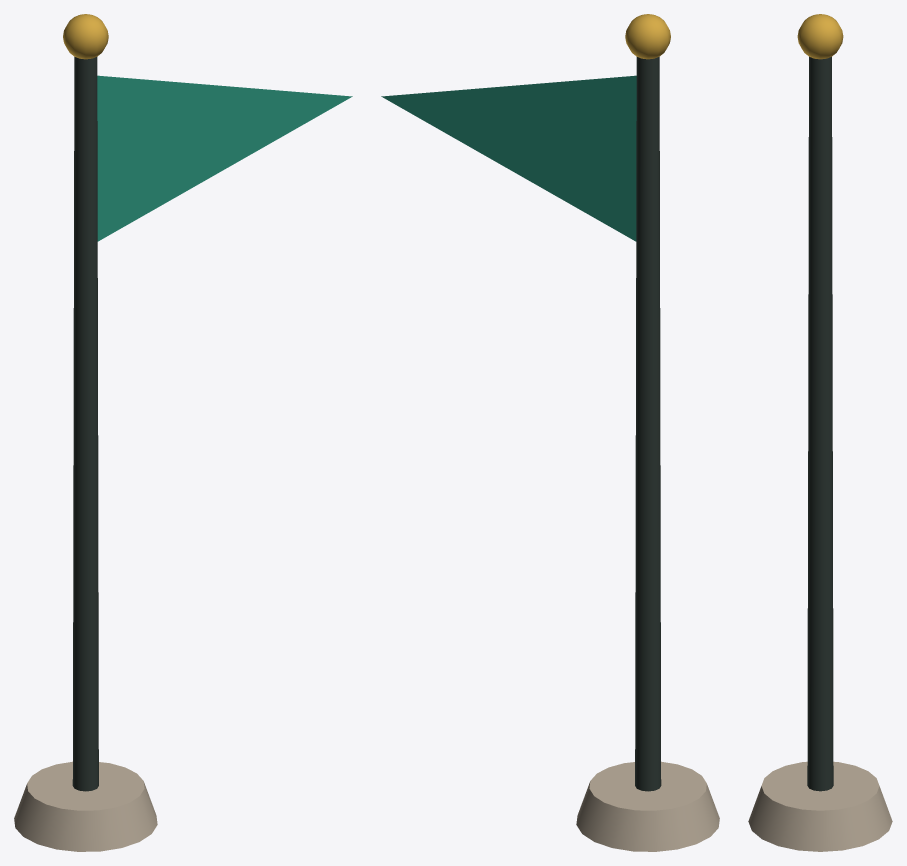
File: prop_plaza_flag_ph.glb
3 views of the same model, side by side, from view 1: azimuth 30°, elevation 25°; view 2: azimuth 150°, elevation 25°; view 3: azimuth 270°, elevation 25° (orthographic).
Visible parts, largest first — view 1: prop_plaza_flag; view 2: prop_plaza_flag; view 3: prop_plaza_flag.
Part boxes in pixels (box(x1,y1,x2,y2)): prop_plaza_flag: box(14, 14, 352, 851); prop_plaza_flag: box(381, 14, 719, 851); prop_plaza_flag: box(748, 14, 892, 851).
Size of the model in its own units: 1.16 by 2.71 by 0.44.
